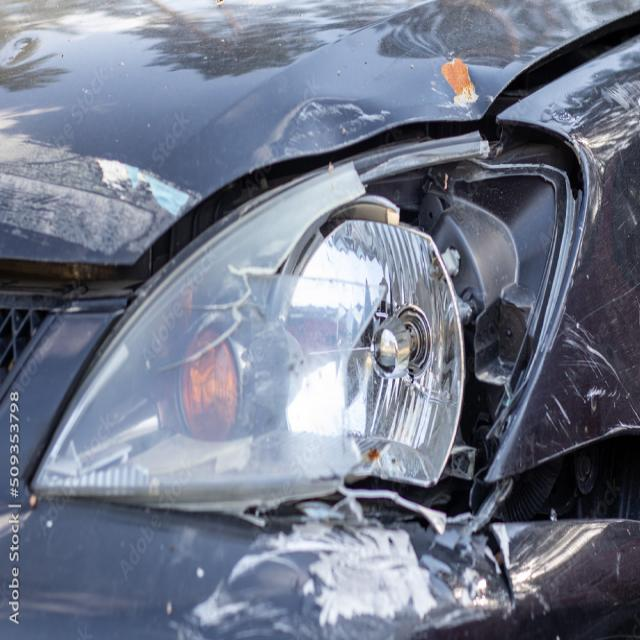Head Light: (122, 216, 522, 528)
